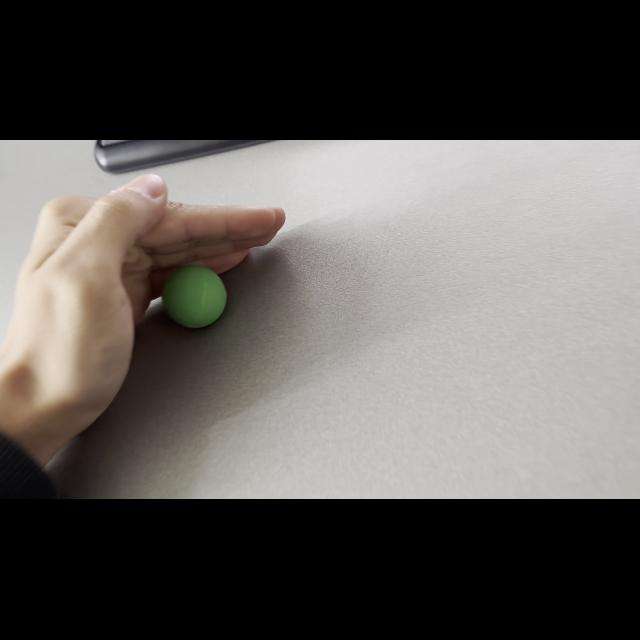objects: (159, 258, 229, 334)
